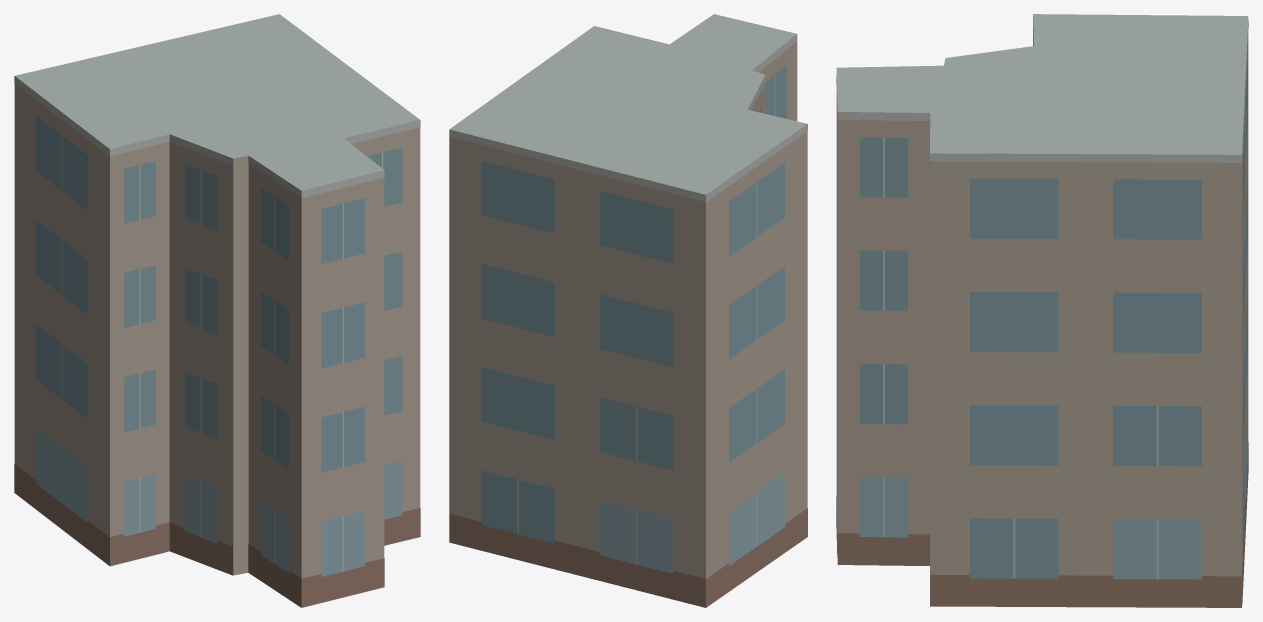
Rendered from survey-upis-32688503.glb.
3 views of the same model, side by side, from view 1: azimuth 30°, elevation 25°; view 2: azimuth 150°, elevation 25°; view 3: azimuth 270°, elevation 25° (orthographic). The views are drawn at different scales.
Parts seen in each view (by area): view 1: survey-upis-32688503.tmp; view 2: survey-upis-32688503.tmp; view 3: survey-upis-32688503.tmp.
Part boxes in pixels (x1,y1,x2,y2): survey-upis-32688503.tmp: [14, 14, 420, 607]; survey-upis-32688503.tmp: [449, 14, 807, 607]; survey-upis-32688503.tmp: [836, 14, 1248, 607].
Bounding box in the file's own units: 9.18 × 13.75 × 11.35.
